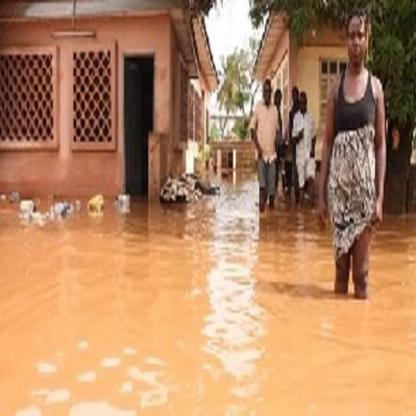face: (349, 17, 366, 66), (266, 85, 272, 102), (278, 93, 283, 105), (294, 91, 299, 103), (302, 96, 306, 110)
